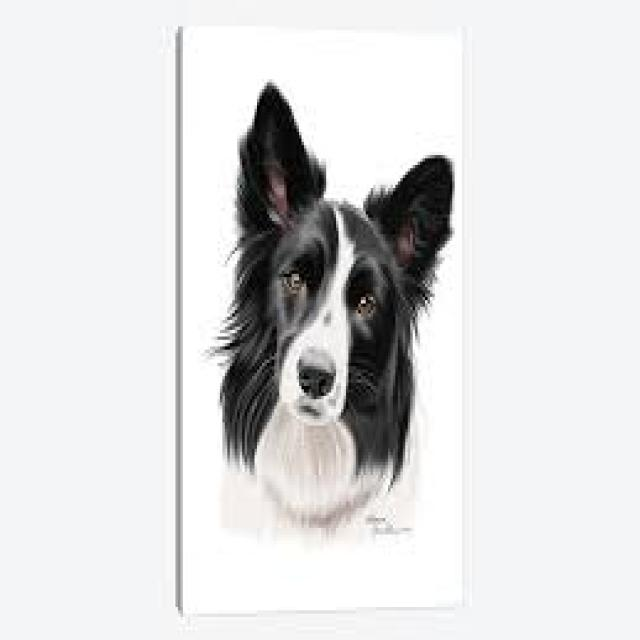ALASKAN_MALAMUTE: (195, 63, 457, 538)
